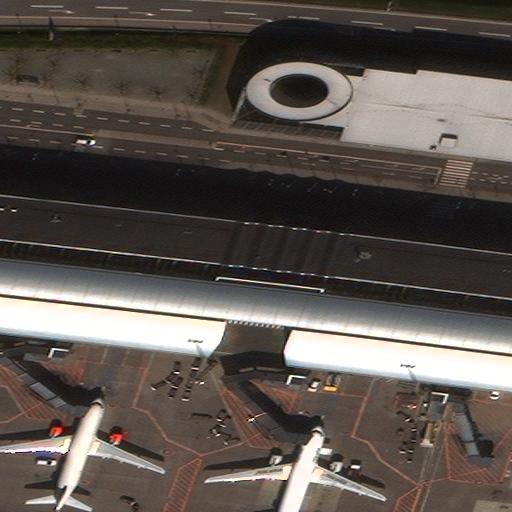Medium Civil Transport: (0, 394, 165, 512), (204, 422, 387, 512)
